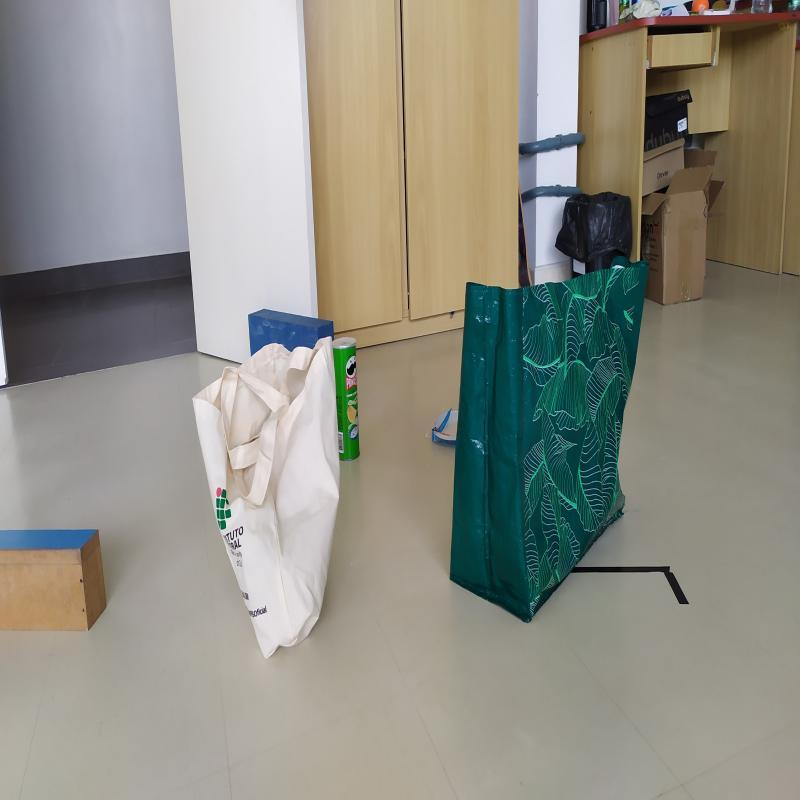Bag: (447, 254, 652, 622), (192, 336, 342, 662)
Plate: (431, 408, 462, 444)
Pringles: (333, 336, 363, 464)
